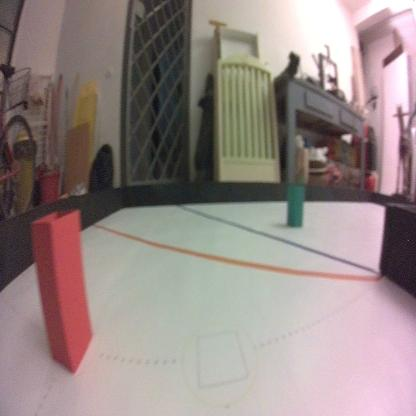green: (287, 184, 305, 230)
red: (28, 208, 94, 376)
